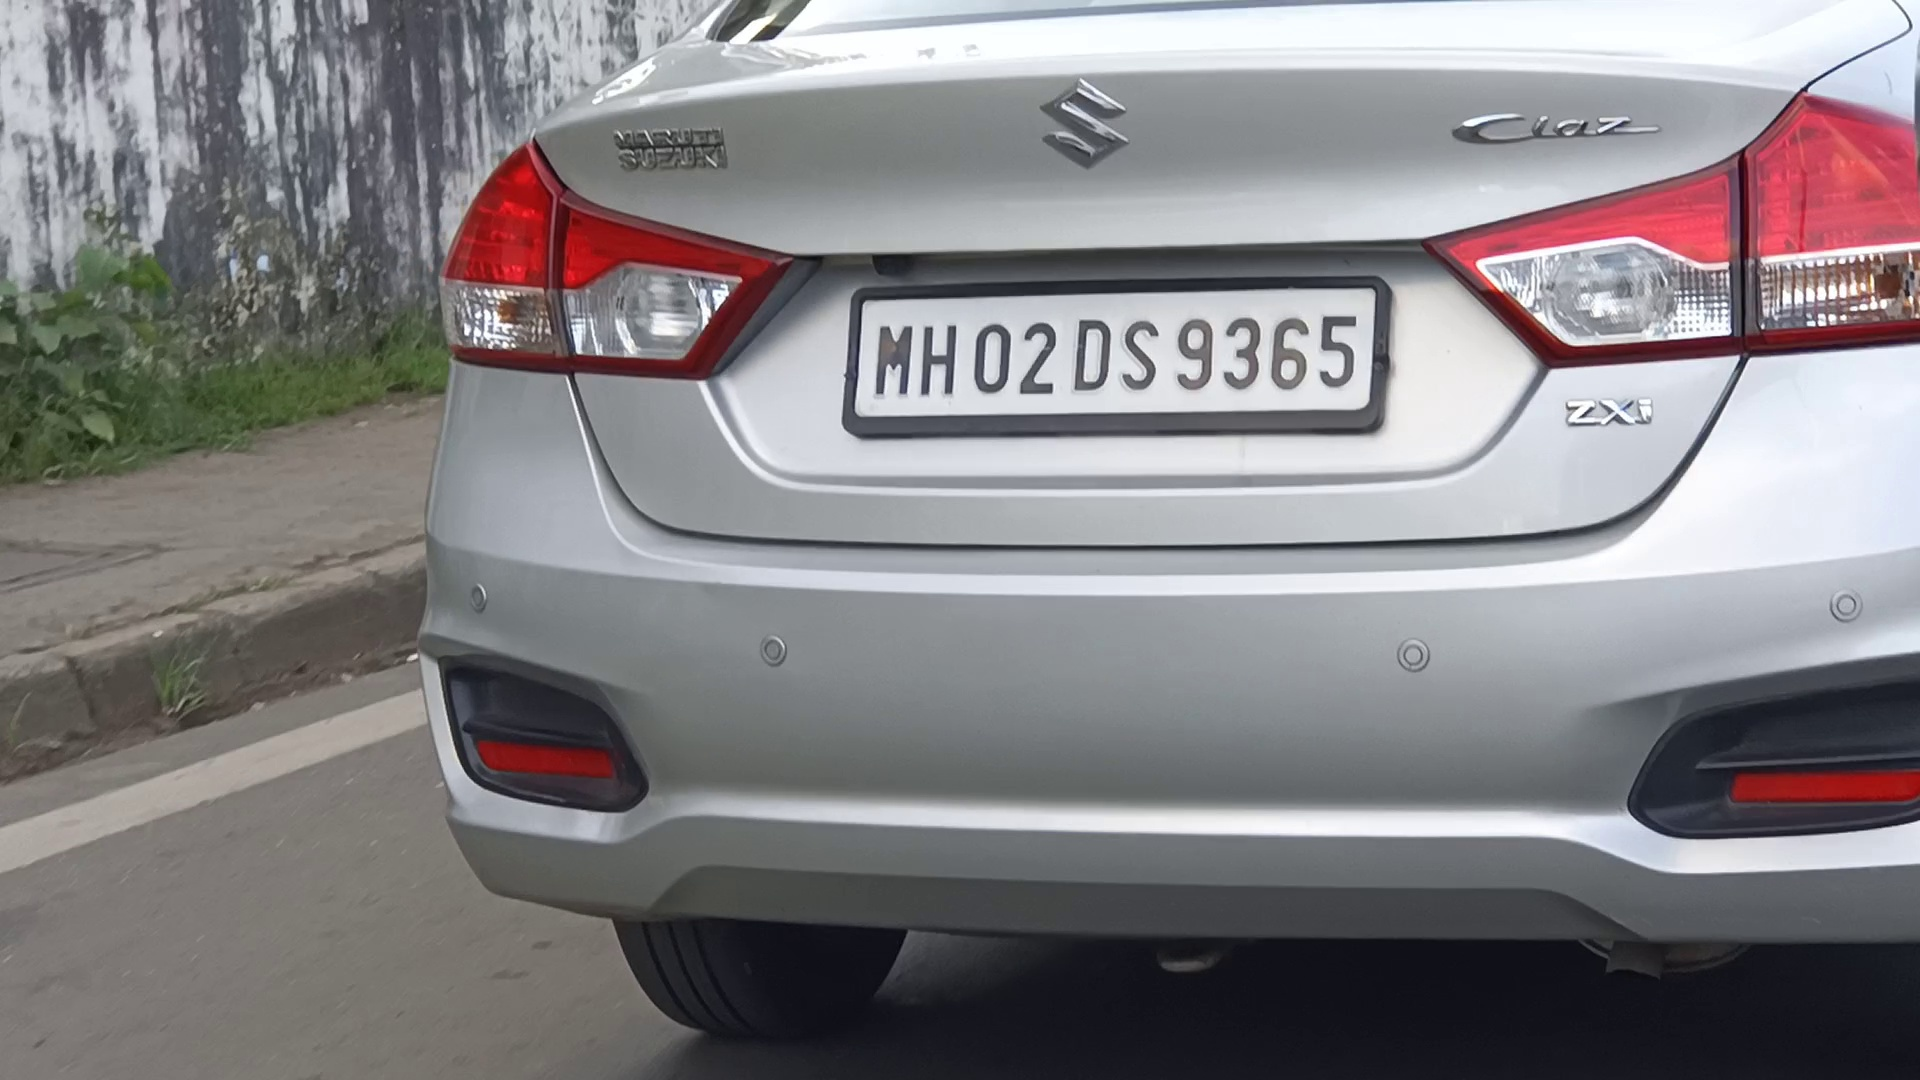MH02DS9365: (854, 292, 1373, 413)
